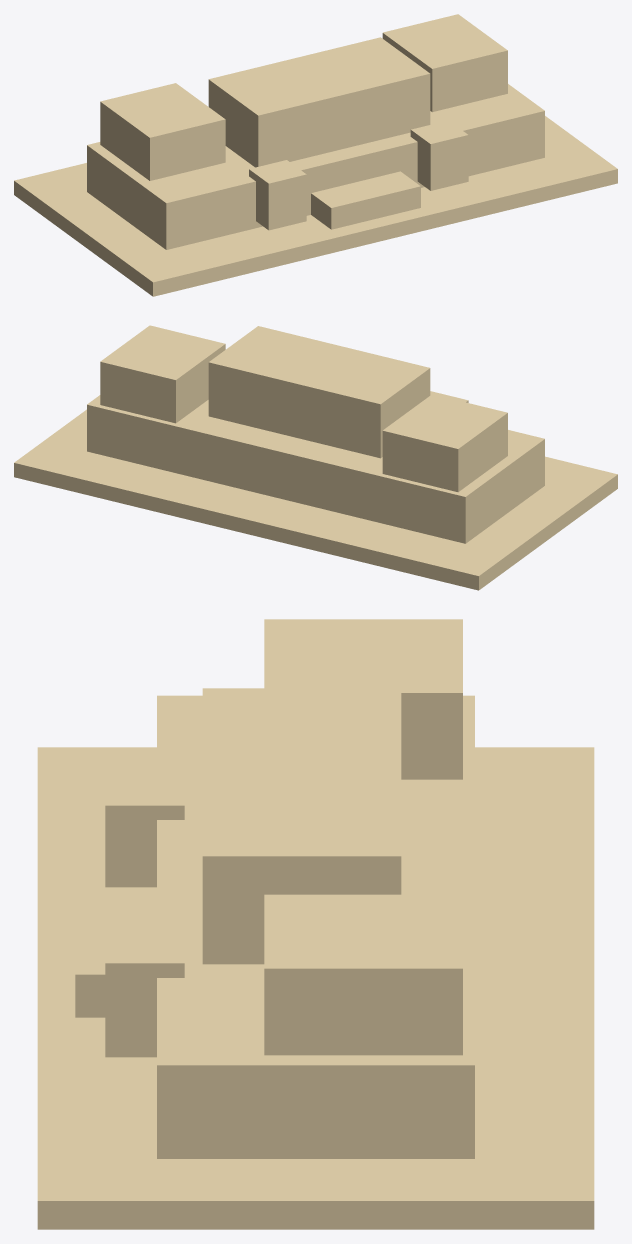
The model's file is le-hong-phong-campus-placeholder.glb.
The picture shows the model from 3 angles, top to bottom: view 1: azimuth 30°, elevation 25°; view 2: azimuth 150°, elevation 25°; view 3: azimuth 270°, elevation 25°; orthographic projection. The views are drawn at different scales.
Visible parts, largest first — view 1: Le Hong Phong Campus Placeholder; view 2: Le Hong Phong Campus Placeholder; view 3: Le Hong Phong Campus Placeholder.
Boxes of the visible parts, left/top/right/bottom form: Le Hong Phong Campus Placeholder: left=14, top=14, right=617, bottom=296; Le Hong Phong Campus Placeholder: left=14, top=325, right=617, bottom=590; Le Hong Phong Campus Placeholder: left=37, top=619, right=594, bottom=1229.
Size of the model in its own units: 27 by 6.4 by 14.
